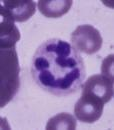N: (30, 39, 86, 96)
